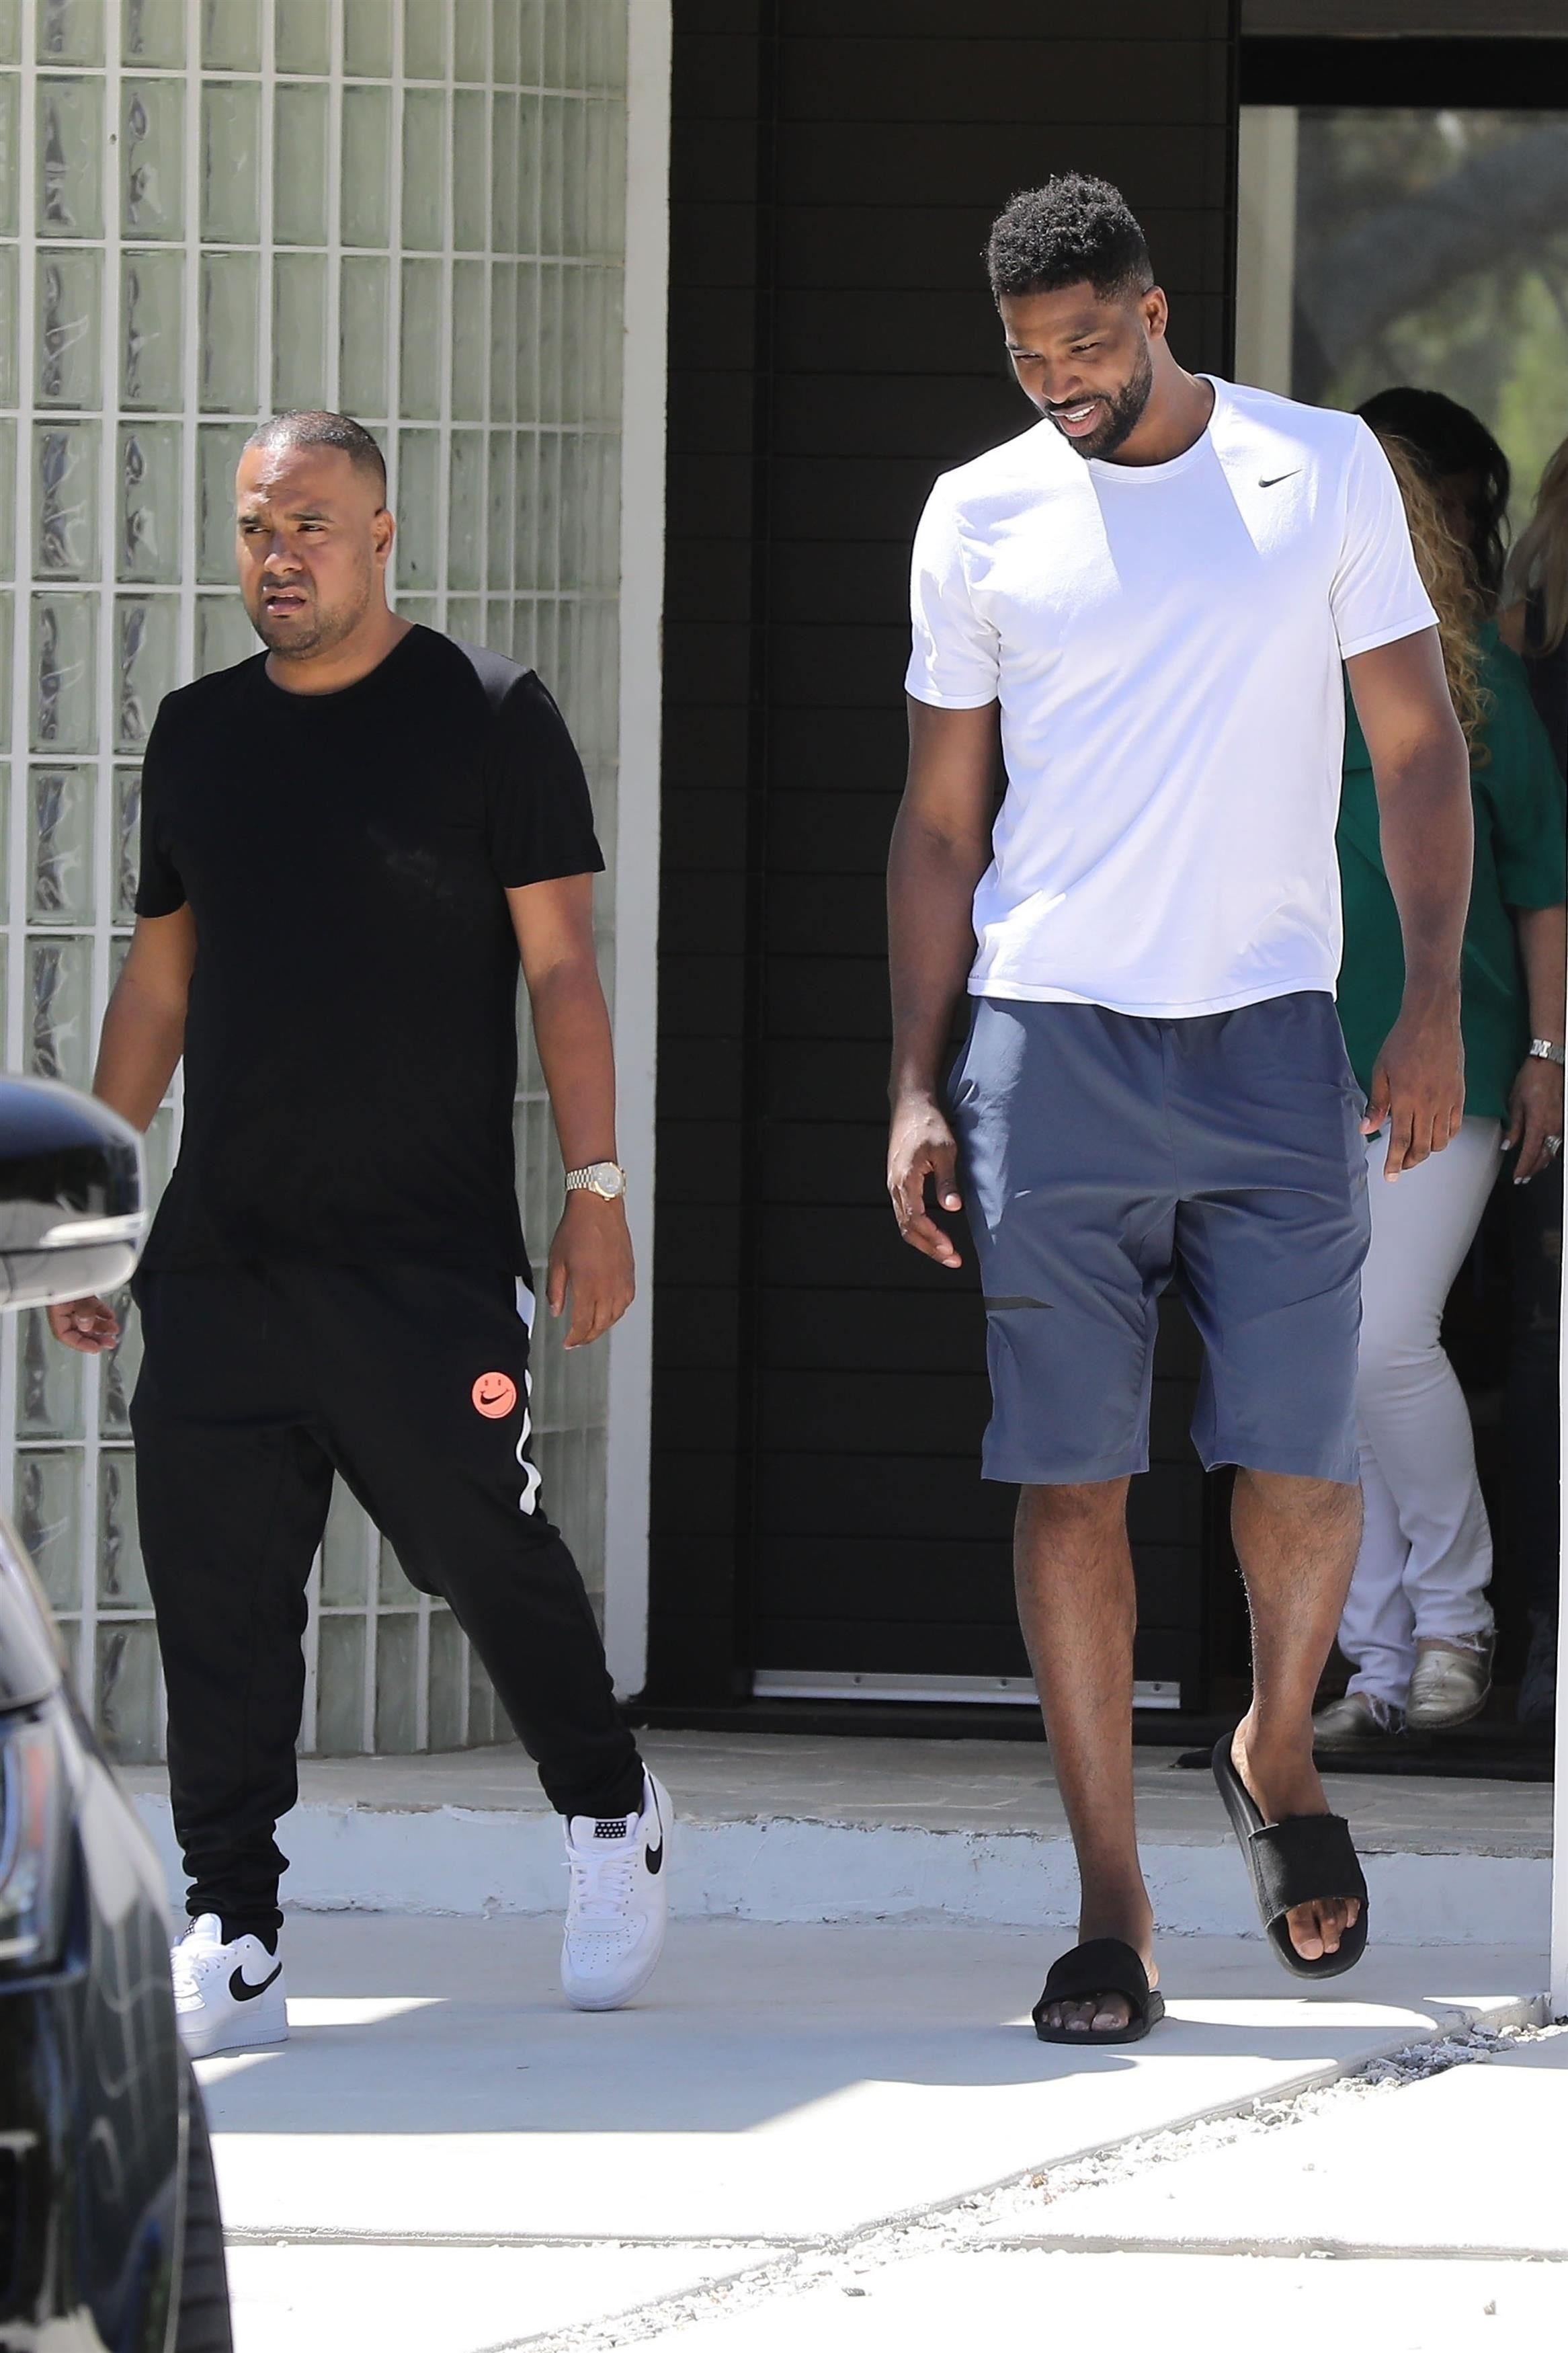Person: (868, 184, 1447, 1932), (95, 429, 624, 1950)
